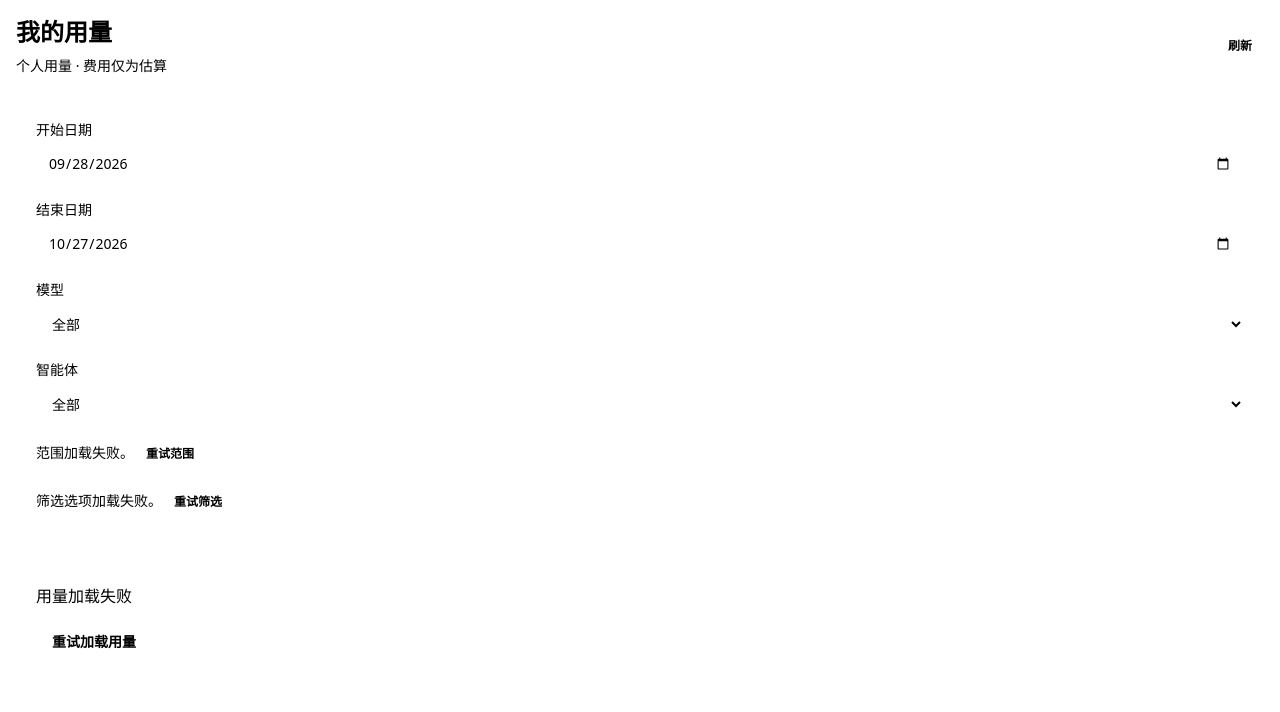
it: query errors offer retry and empty results are explicit
Check: the text "用量加载失败" is shown, box [36,585,132,607]
Click the button "重试加载用量": coordinates (94, 642) [36,620,152,664]
(page scrolled)
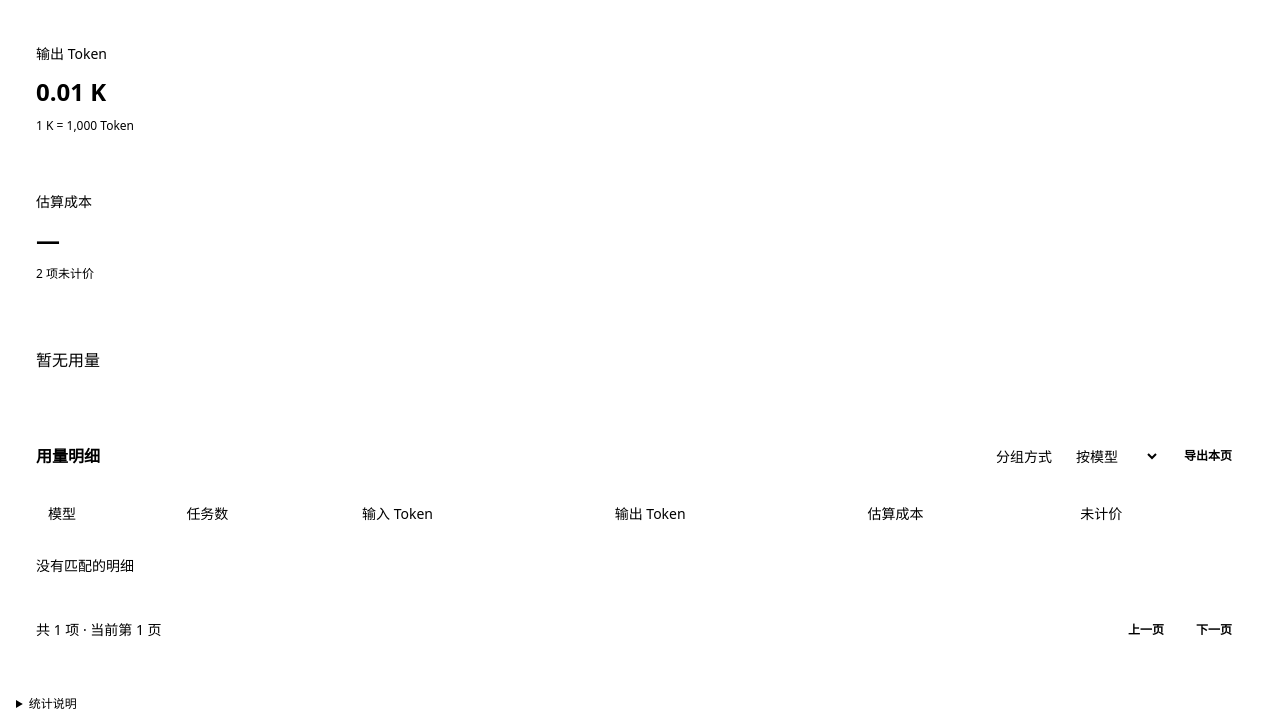
Check: the text "暂无用量" is shown, box [36,349,100,371]
